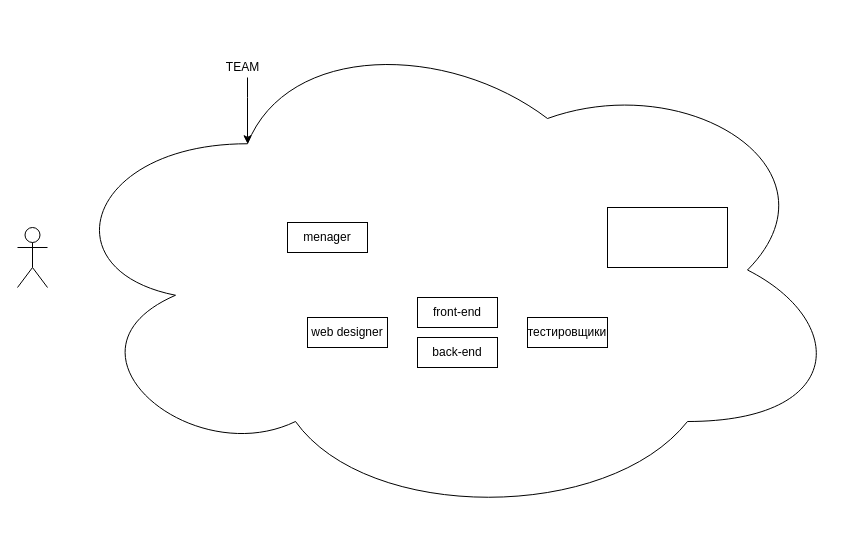
The diagram is 865 pixels wide and 540 high, and some of its shapes have lost their labels. Each missing label, with the centre of its shape:
BA DEV-OPs: pixel 667 237
client: pixel 32 257
